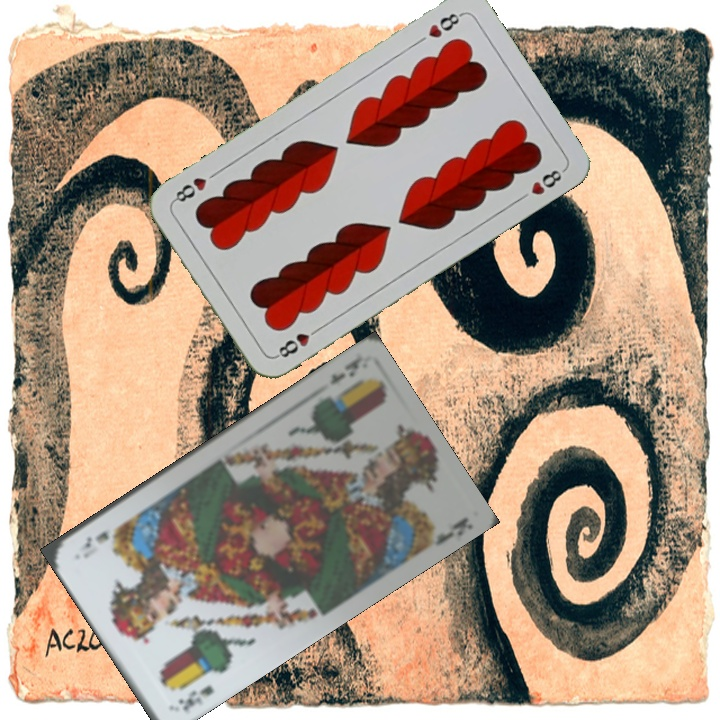EK: (174, 680, 217, 715), (325, 352, 363, 388)
H8: (271, 322, 324, 361), (424, 8, 465, 41)
